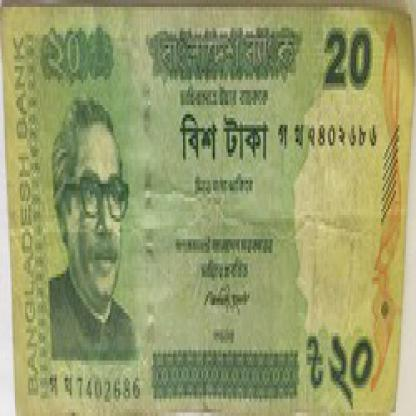Twenty: (40, 21, 118, 111), (166, 107, 274, 170), (306, 329, 378, 402), (312, 21, 374, 100)
